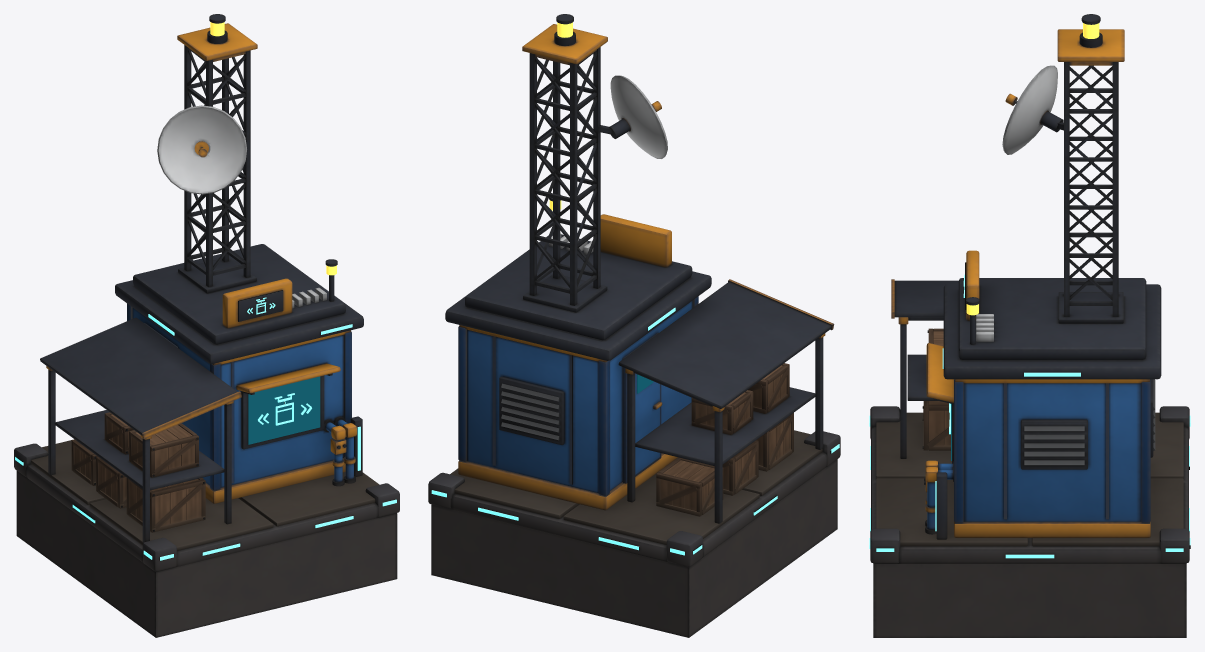
File: SM_LogisticsHub.fbx
3 views of the same model, side by side, from view 1: azimuth 30°, elevation 25°; view 2: azimuth 150°, elevation 25°; view 3: azimuth 270°, elevation 25° (orthographic). The views are drawn at different scales.
Visible parts, largest first — view 1: SM_LogisticsHub; view 2: SM_LogisticsHub; view 3: SM_LogisticsHub.
Part boxes in pixels (box(x1,y1,x2,y2)): SM_LogisticsHub: box(14, 14, 399, 637); SM_LogisticsHub: box(428, 14, 840, 637); SM_LogisticsHub: box(869, 14, 1190, 637).
Size of what is drawn, in the model's own units: 3.96 by 7.77 by 3.94.
1 material, 1 textured.
